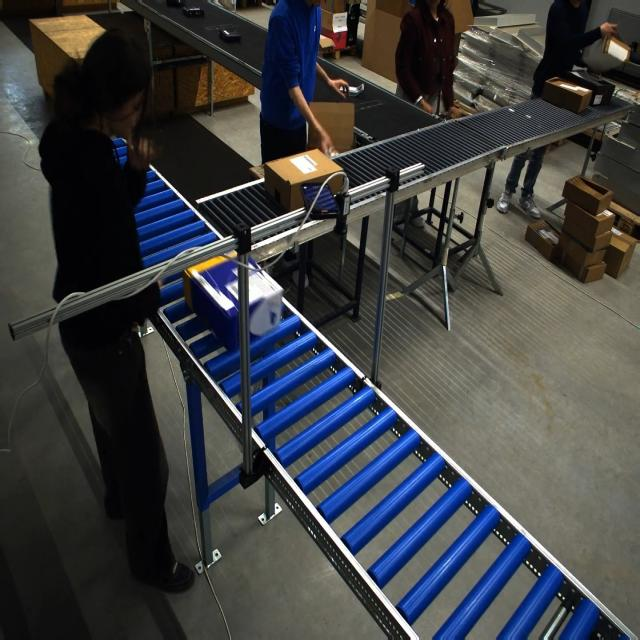box: (184, 252, 281, 352), (264, 148, 338, 214), (310, 101, 352, 156)
product: (602, 35, 631, 66), (218, 28, 241, 43), (341, 82, 364, 97), (182, 6, 204, 17), (166, 0, 183, 7)
